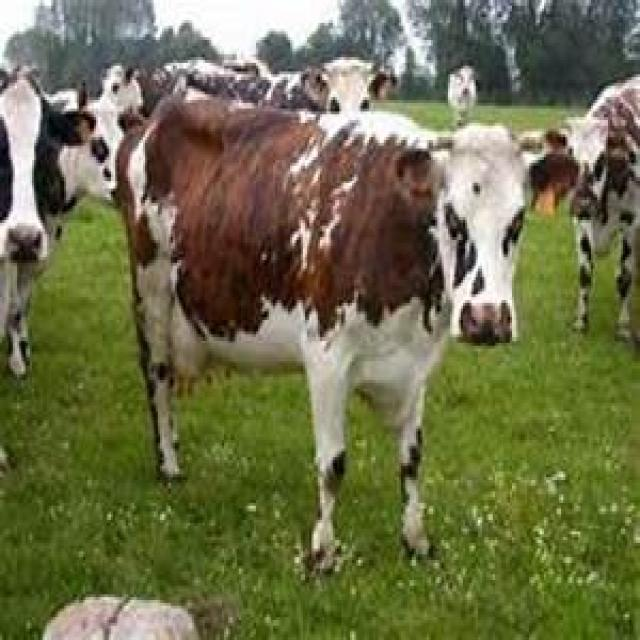animal: (111, 86, 578, 574), (0, 80, 96, 474)
